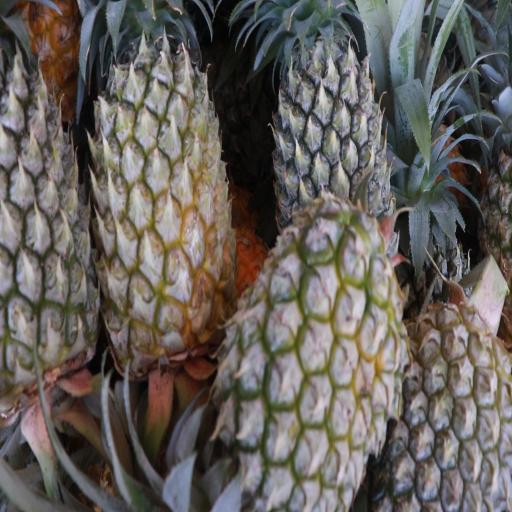------------------------------: (93, 0, 229, 367), (226, 221, 398, 504)
